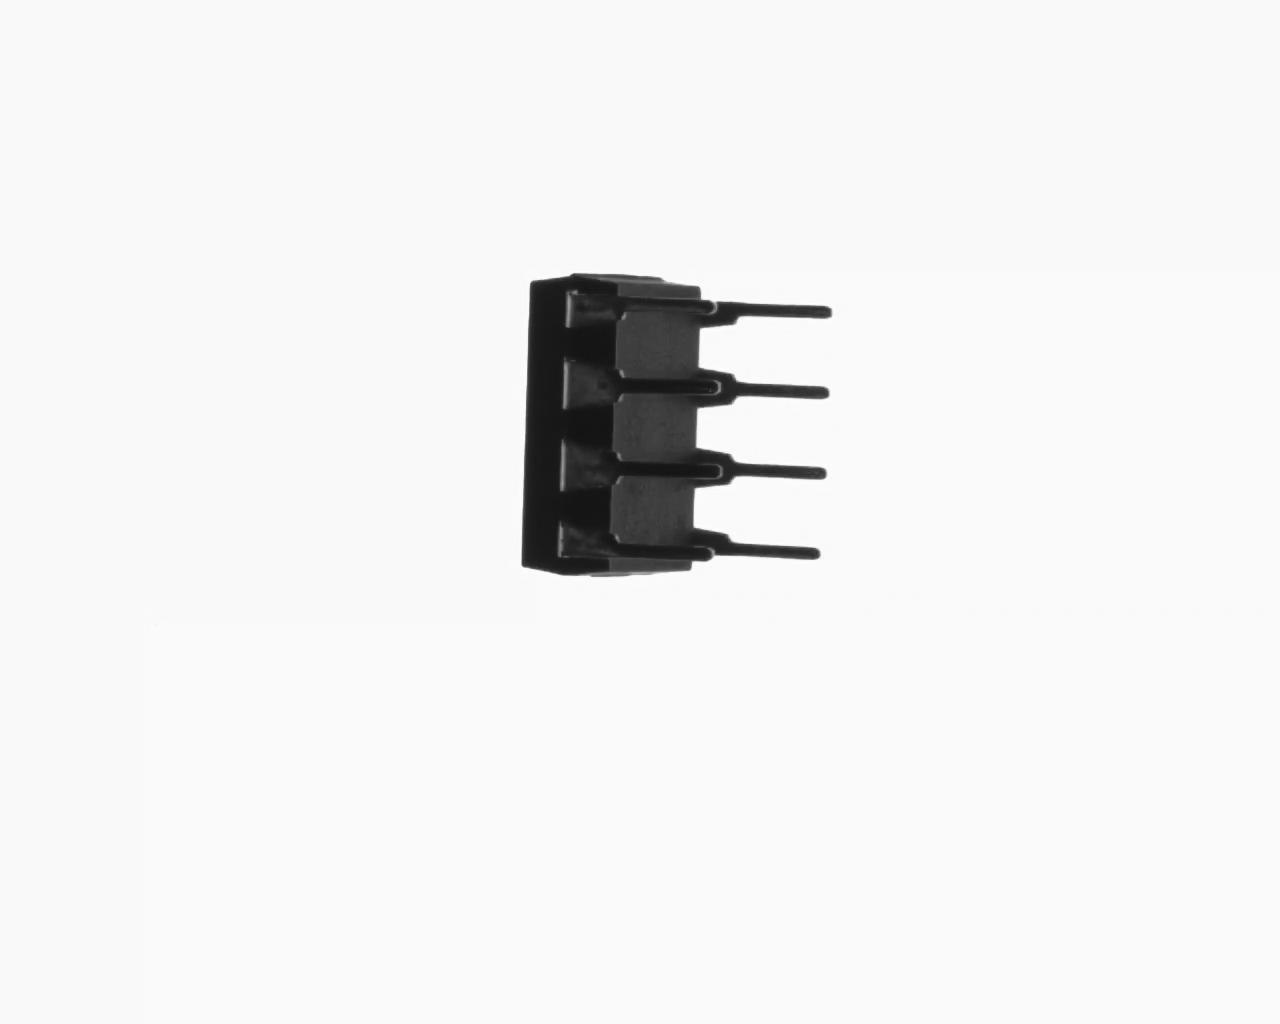Leg: (694, 439, 828, 497), (559, 448, 724, 495), (558, 369, 723, 410), (543, 526, 715, 564), (567, 293, 711, 334), (694, 369, 833, 412), (702, 522, 821, 565), (706, 299, 836, 334)
